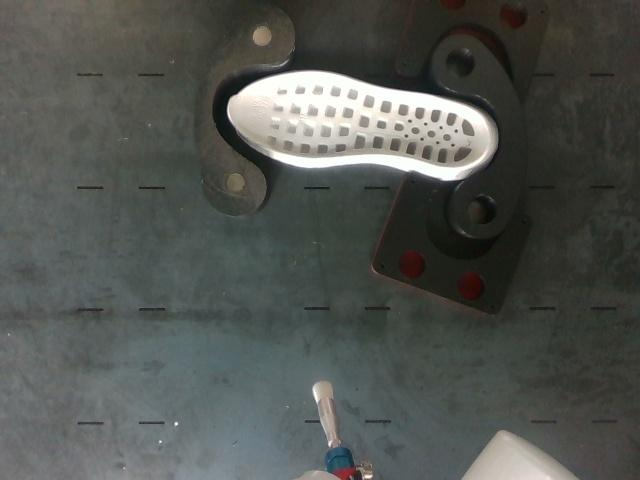shoes: (228, 72, 488, 168)
